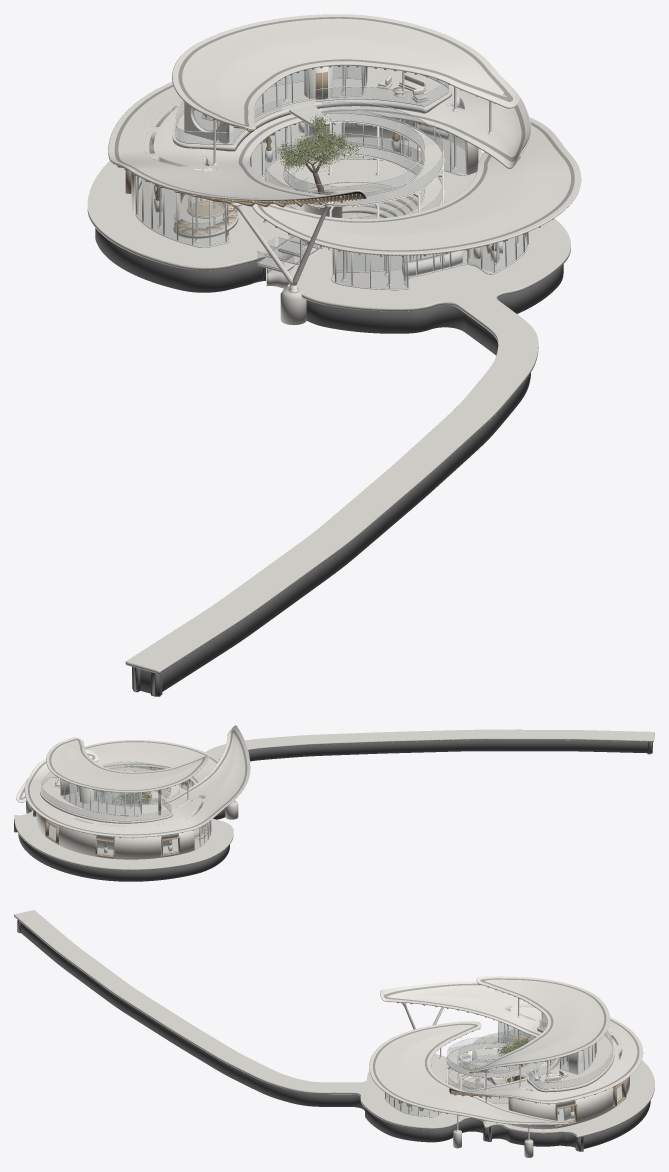
File: cloud_tide_pavilion.glb
3 views of the same model, one above another, from view 1: azimuth 30°, elevation 25°; view 2: azimuth 150°, elevation 25°; view 3: azimuth 270°, elevation 25° (orthographic). The views are drawn at different scales.
Visible parts, largest first — view 1: Plinth_And_Bridge_Top, Roof_B_Upper_Shell, Plinth_And_Bridge_RecessedBase, Roof_C_Low_Shell, Roof_A_Main_Shell, Envelope_E1_Gallery_Glass, Ramp_Balustrade_Glass, Deck_Paving, Envelope_E2_Lobby_Glass, Ramp_Paving, Plinth_And_Bridge_EdgeFascia, Ramp_Balustrade_Rail (+12 smaller); view 2: Plinth_And_Bridge_Top, Plinth_And_Bridge_RecessedBase, Roof_A_Main_Shell, Roof_B_Upper_Shell, Roof_C_Low_Shell, Envelope_E1_Gallery_SolidWall, Deck_Paving, Envelope_E3_Belvedere_Glass, Plinth_And_Bridge_EdgeFascia, Deck_Balustrade_Glass, Envelope_E1_Gallery_Glass, Envelope_E3_Belvedere_Mullions_Frames (+11 smaller); view 3: Plinth_And_Bridge_Top, Plinth_And_Bridge_RecessedBase, Roof_A_Main_Shell, Roof_C_Low_Shell, Roof_B_Upper_Shell, Envelope_E1_Gallery_SolidWall, Ramp_Balustrade_Glass, Deck_Paving, Plinth_And_Bridge_EdgeFascia, Ramp_Paving, Ramp_Balustrade_Rail, Deck_Balustrade_Glass (+9 smaller).
Part boxes in pixels (x1,y1,x2,y2): Plinth_And_Bridge_Top: [87, 122, 570, 670]; Roof_B_Upper_Shell: [172, 14, 518, 128]; Plinth_And_Bridge_RecessedBase: [95, 228, 563, 696]; Roof_C_Low_Shell: [253, 117, 580, 253]; Roof_A_Main_Shell: [109, 80, 530, 202]; Envelope_E1_Gallery_Glass: [136, 120, 465, 245]; Ramp_Balustrade_Glass: [265, 102, 442, 218]; Deck_Paving: [172, 65, 451, 145]; Envelope_E2_Lobby_Glass: [333, 232, 527, 288]; Ramp_Paving: [265, 113, 443, 213]; Plinth_And_Bridge_EdgeFascia: [87, 149, 570, 673]; Ramp_Balustrade_Rail: [265, 101, 443, 218]; Plinth_And_Bridge_Top: [14, 729, 654, 868]; Plinth_And_Bridge_RecessedBase: [14, 740, 652, 881]; Roof_A_Main_Shell: [25, 725, 249, 836]; Roof_B_Upper_Shell: [46, 737, 208, 791]; Roof_C_Low_Shell: [16, 740, 218, 801]; Envelope_E1_Gallery_SolidWall: [36, 812, 194, 859]; Deck_Paving: [40, 776, 172, 821]; Envelope_E3_Belvedere_Glass: [61, 779, 141, 814]; Plinth_And_Bridge_EdgeFascia: [14, 729, 654, 870]; Deck_Balustrade_Glass: [42, 772, 170, 820]; Envelope_E1_Gallery_Glass: [49, 821, 210, 854]; Envelope_E3_Belvedere_Mullions_Frames: [60, 779, 141, 816]; Plinth_And_Bridge_Top: [14, 910, 654, 1135]; Plinth_And_Bridge_RecessedBase: [17, 920, 650, 1151]; Roof_A_Main_Shell: [380, 981, 642, 1102]; Roof_C_Low_Shell: [369, 1021, 568, 1123]; Roof_B_Upper_Shell: [470, 976, 609, 1072]; Envelope_E1_Gallery_SolidWall: [508, 1056, 629, 1129]; Ramp_Balustrade_Glass: [447, 1037, 542, 1090]; Deck_Paving: [527, 1025, 614, 1089]; Plinth_And_Bridge_EdgeFascia: [14, 914, 654, 1137]; Ramp_Paving: [447, 1043, 546, 1091]; Ramp_Balustrade_Rail: [446, 1036, 546, 1089]; Deck_Balustrade_Glass: [529, 1020, 612, 1088].
Size of the model in its own units: 76.28 by 13.92 by 88.84.
